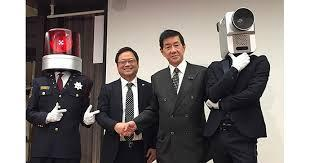no more kid: (217, 7, 257, 61)
